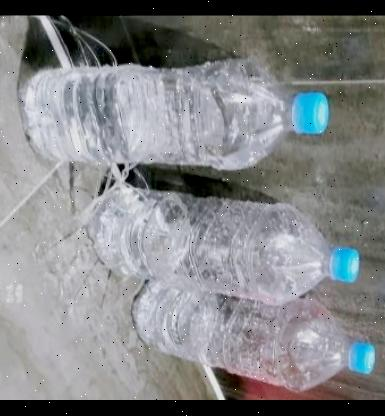Plastic Bottle: (18, 60, 328, 170), (86, 186, 357, 306), (133, 283, 374, 392)
